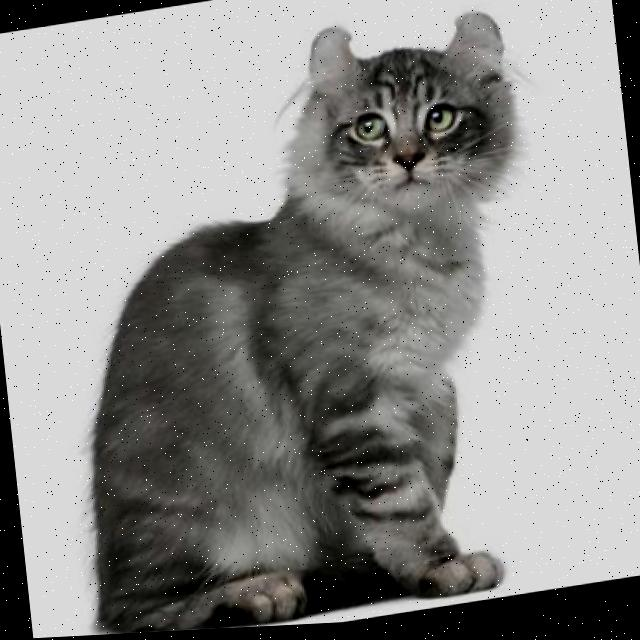American Curl: (27, 0, 573, 639)
